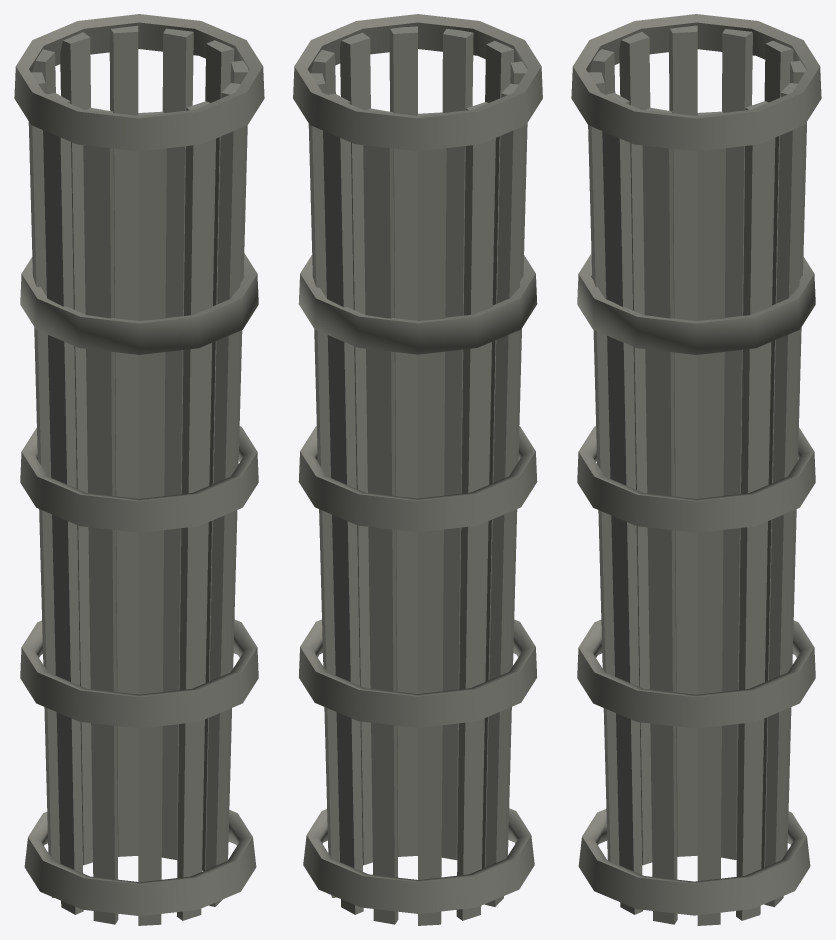
The model's file is metal_cage_02.fbx.
The picture shows the model from 3 angles, left to right: view 1: azimuth 30°, elevation 25°; view 2: azimuth 150°, elevation 25°; view 3: azimuth 270°, elevation 25°; orthographic projection.
Parts seen in each view (by area): view 1: metal_cage_02; view 2: metal_cage_02; view 3: metal_cage_02.
Part boxes in pixels (box(x1,y1,x2,y2)): metal_cage_02: box(14, 14, 264, 925); metal_cage_02: box(293, 14, 542, 925); metal_cage_02: box(571, 14, 821, 925).
Size of the model in its own units: 67.43 by 245 by 67.43.
